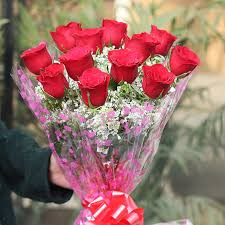rose: (121, 33, 195, 96), (57, 21, 104, 76), (19, 41, 54, 71)
